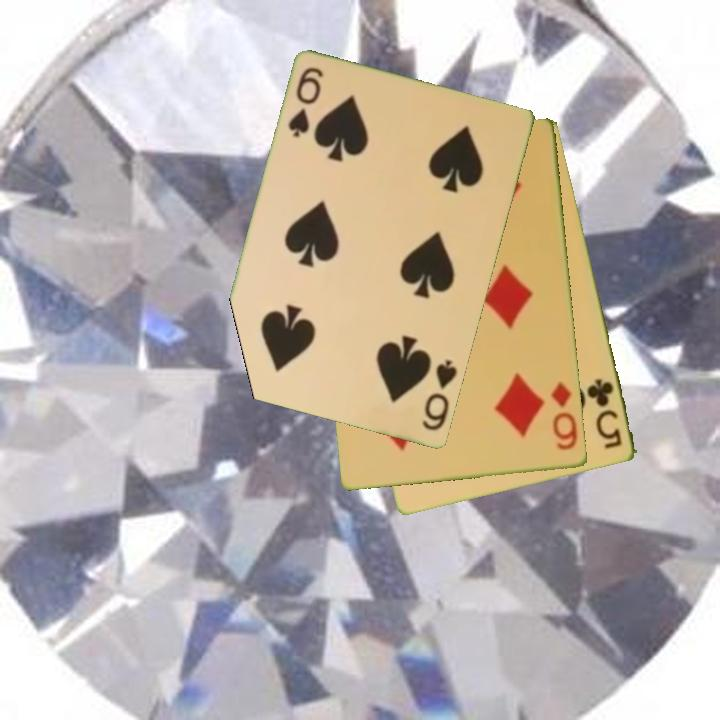5c: (584, 375, 626, 452)
6d: (547, 378, 581, 454)
6s: (284, 64, 327, 141), (419, 357, 461, 434)
